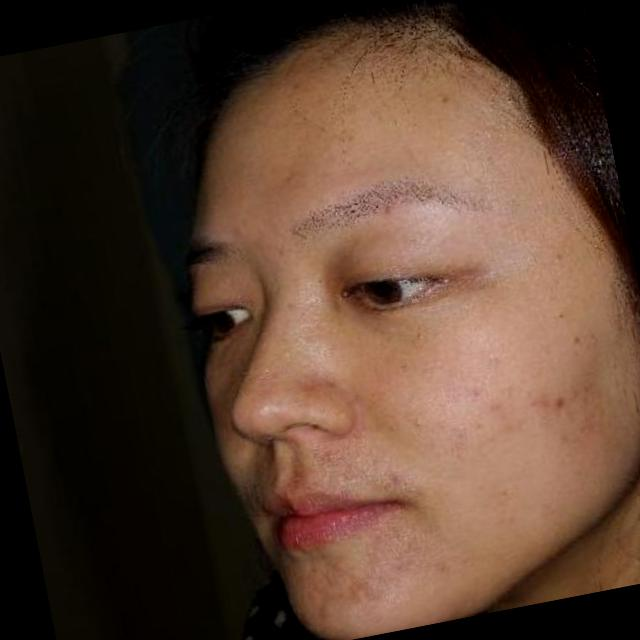darkspot: (490, 396, 520, 440), (379, 466, 415, 494), (521, 387, 551, 418), (548, 392, 570, 412), (464, 384, 484, 404)
nodules: (408, 414, 426, 433)
